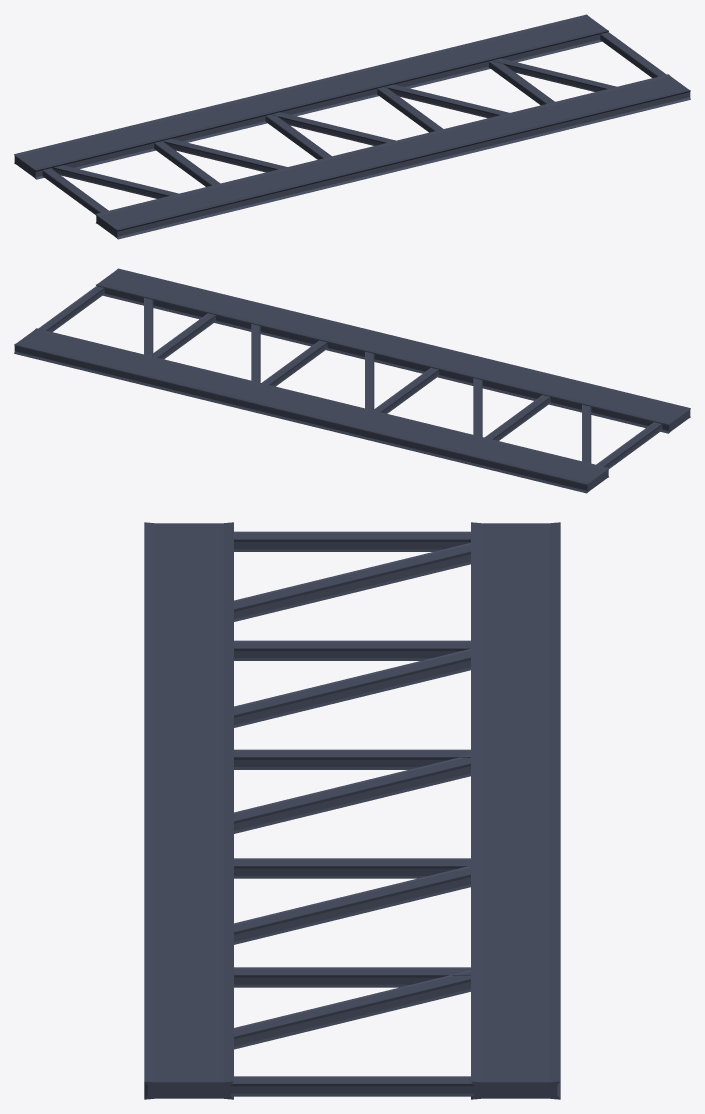
The model's file is SM_exterior_top_01.fbx.
The picture shows the model from 3 angles, top to bottom: view 1: azimuth 30°, elevation 25°; view 2: azimuth 150°, elevation 25°; view 3: azimuth 270°, elevation 25°; orthographic projection. The views are drawn at different scales.
Visible parts, largest first — view 1: exterior_top_01; view 2: exterior_top_01; view 3: exterior_top_01.
Boxes of the visible parts, x1,y1,x2,y2 form: exterior_top_01: (14,14,690,239); exterior_top_01: (14,268,690,493); exterior_top_01: (144,522,560,1099).
Bounding box in the file's own units: 1102 × 16.79 × 347.
